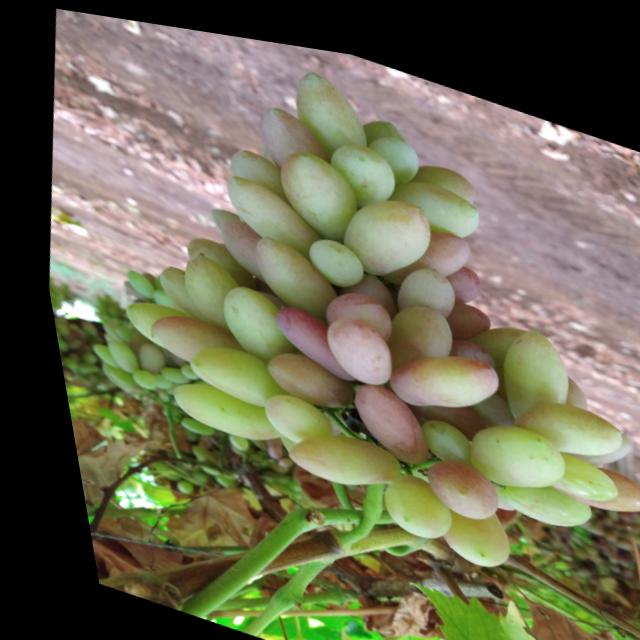grapes: (369, 316, 499, 422), (325, 169, 437, 282), (447, 394, 564, 492), (491, 370, 618, 458), (480, 304, 573, 423), (269, 407, 394, 495), (265, 135, 366, 240), (152, 365, 276, 447), (280, 53, 378, 156), (210, 164, 317, 252), (204, 272, 299, 370), (238, 224, 337, 318), (245, 92, 339, 187), (329, 367, 423, 458), (134, 300, 242, 377), (366, 282, 455, 374), (253, 293, 349, 377), (175, 330, 273, 411), (314, 123, 402, 213), (382, 161, 482, 238), (540, 437, 640, 509), (418, 480, 503, 564), (305, 301, 390, 383), (251, 339, 350, 409), (482, 456, 583, 524), (361, 455, 444, 536), (539, 395, 628, 470), (403, 437, 490, 513), (165, 243, 240, 329), (378, 244, 457, 323), (306, 274, 390, 343), (244, 381, 327, 449), (392, 208, 469, 281), (109, 289, 187, 355), (141, 255, 211, 322), (399, 142, 479, 199), (353, 114, 422, 180), (294, 224, 365, 287), (204, 209, 267, 275), (220, 138, 287, 196), (403, 404, 462, 460), (430, 280, 489, 336), (434, 247, 481, 293), (338, 255, 387, 299), (355, 101, 411, 139), (175, 229, 212, 264), (198, 198, 235, 231), (548, 361, 581, 398)
